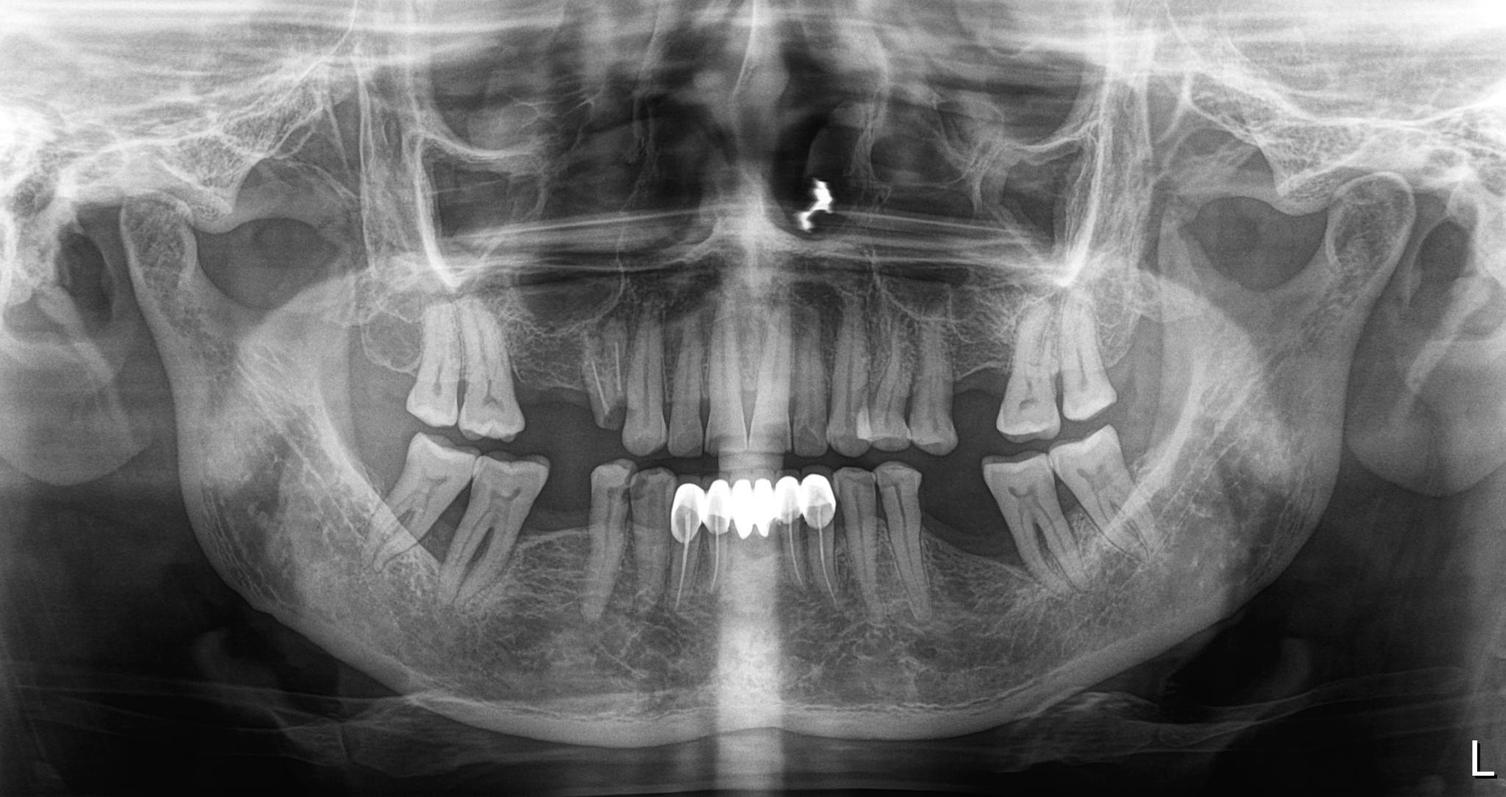Endodontically Treated Tooth: (579, 325, 632, 447), (660, 478, 707, 601), (754, 485, 789, 606), (715, 482, 752, 594), (800, 487, 836, 598)
Missing Tooth: (919, 476, 999, 579), (342, 314, 418, 419), (520, 320, 574, 453), (1101, 309, 1167, 412), (540, 478, 592, 603), (952, 320, 998, 441), (346, 434, 404, 507)
